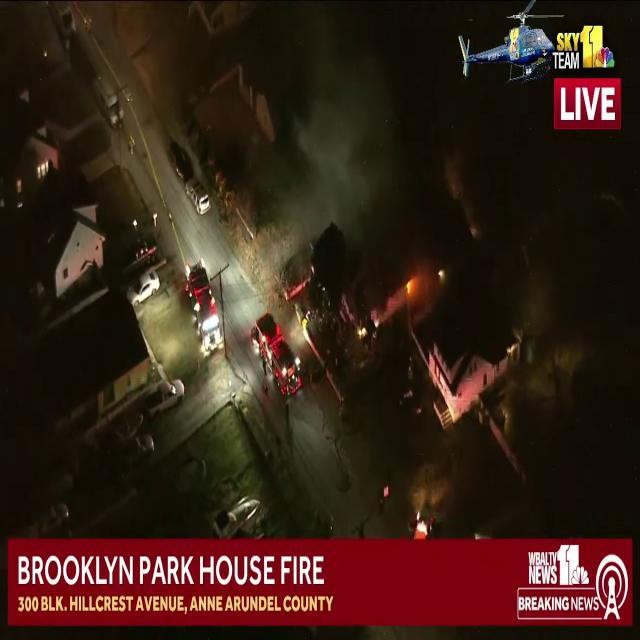Smoke: (290, 16, 404, 224)
